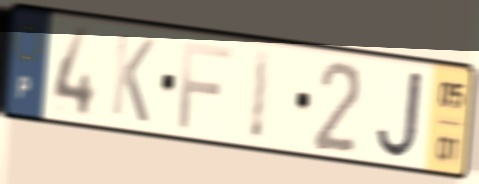2: (311, 56, 367, 158)
4: (49, 21, 102, 122)
F: (176, 39, 236, 133)
I: (246, 45, 275, 143)
J: (372, 66, 427, 161)
K: (107, 29, 158, 127)
